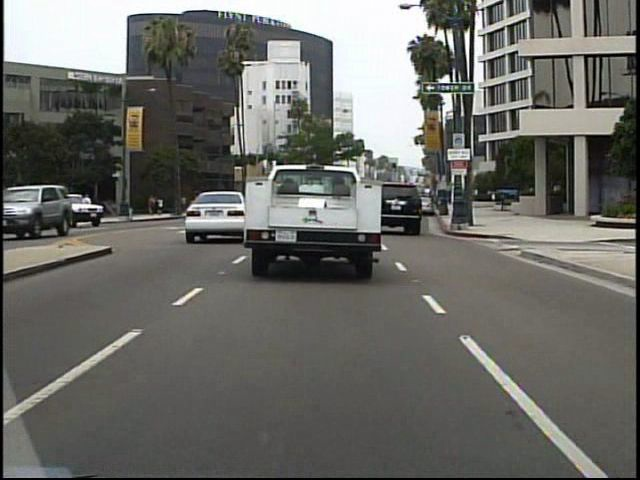person: (16, 192, 37, 231), (80, 190, 96, 226), (117, 187, 133, 218), (70, 193, 85, 226)
